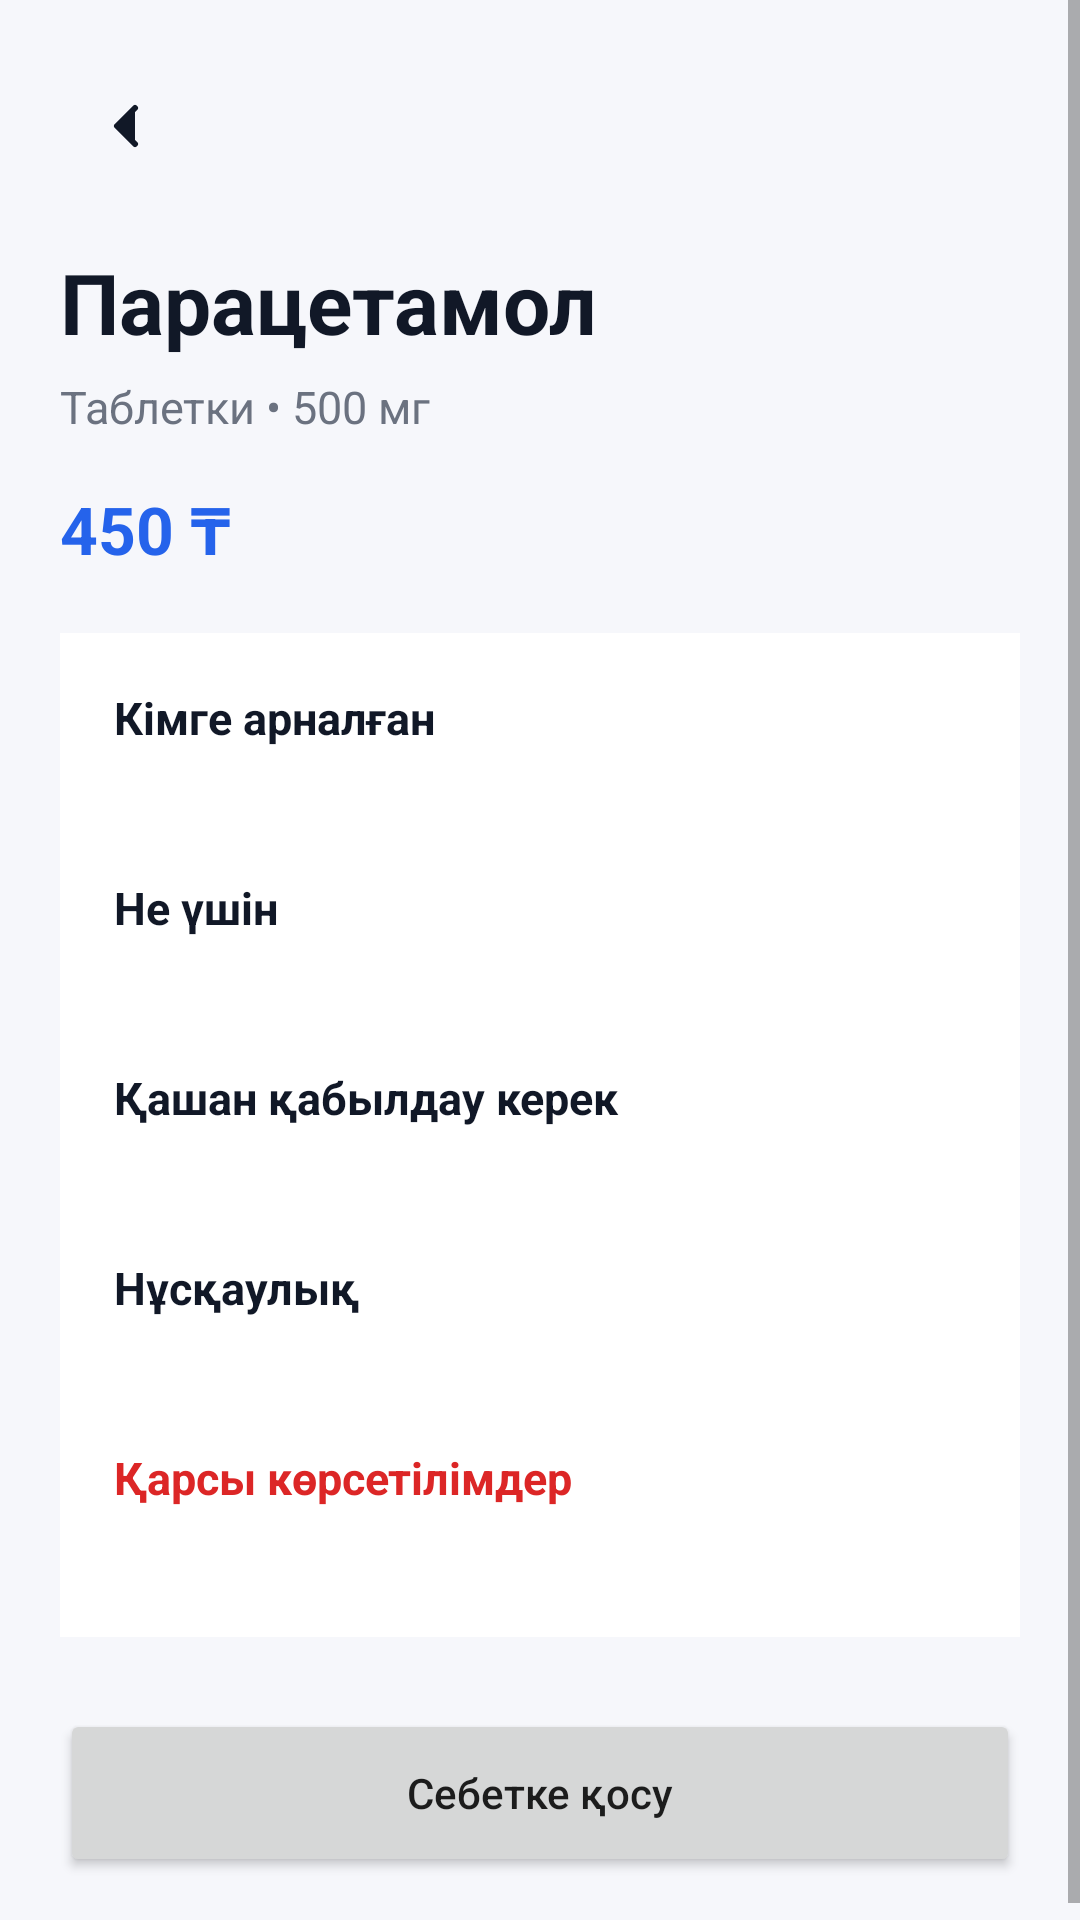

Named icons in this screenshot (1080 x 1920) and their bounding boxes, (x1, y1, x2, y2):
Back: (114, 105, 138, 147)
